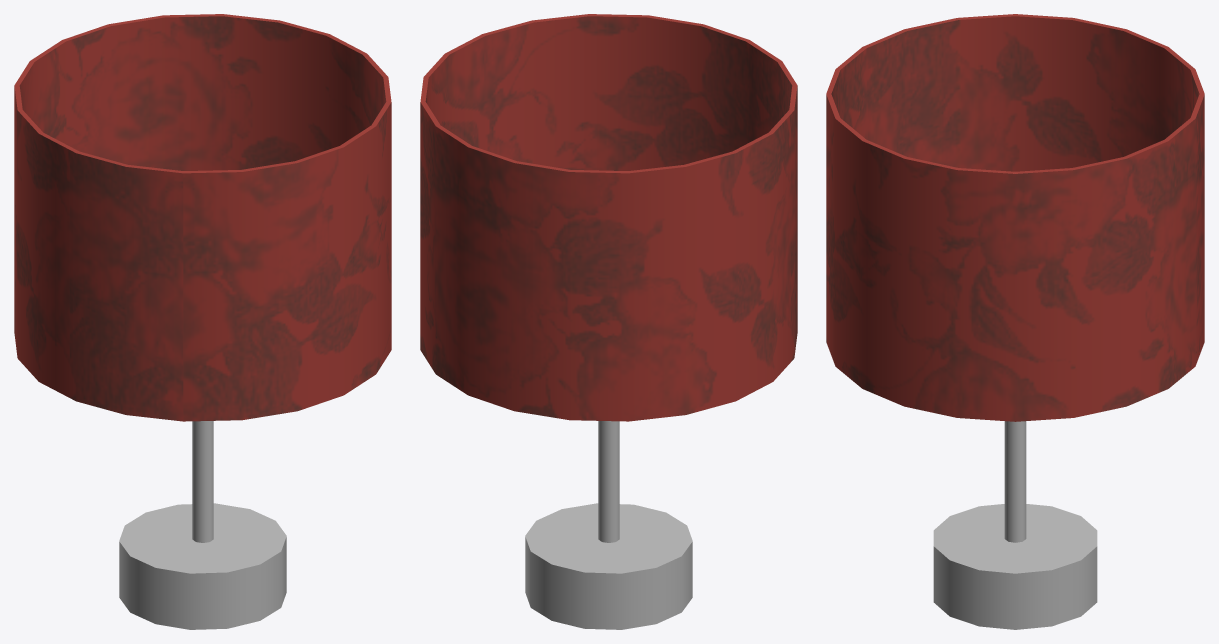
Rendered from tableLampRed.fbx.
3 renders of one model, left to right at view 1: azimuth 30°, elevation 25°; view 2: azimuth 150°, elevation 25°; view 3: azimuth 270°, elevation 25°, orthographic.
Parts seen in each view (by area): view 1: tableLampRed; view 2: tableLampRed; view 3: tableLampRed.
Boxes of the visible parts, x1,y1,x2,y2 form: tableLampRed: (14, 14, 391, 629); tableLampRed: (420, 14, 797, 629); tableLampRed: (826, 14, 1204, 629).
Bounding box in the file's own units: 0.5952 × 0.8682 × 0.5952.
1 material, 1 textured.
